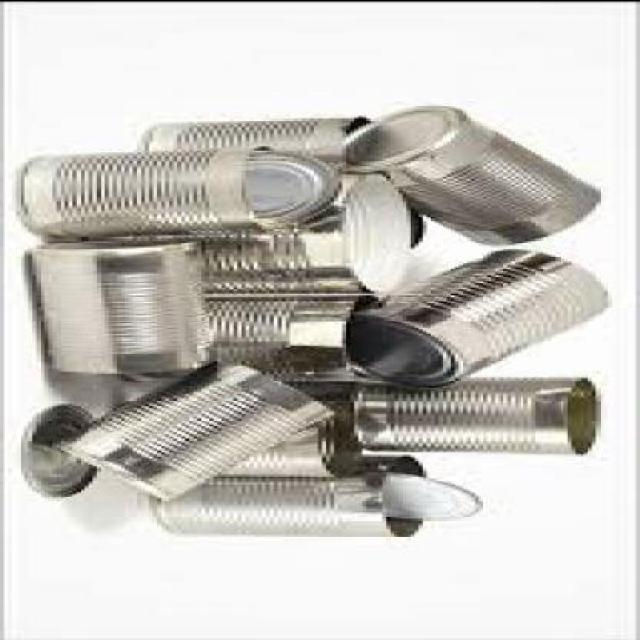METAL: (69, 358, 342, 498), (350, 245, 612, 387), (350, 101, 608, 245), (198, 172, 422, 292), (36, 235, 218, 371), (120, 288, 391, 377), (28, 143, 266, 235), (157, 452, 431, 530), (358, 374, 608, 448), (144, 111, 378, 155), (28, 400, 101, 495), (253, 148, 342, 220), (386, 468, 488, 518)
